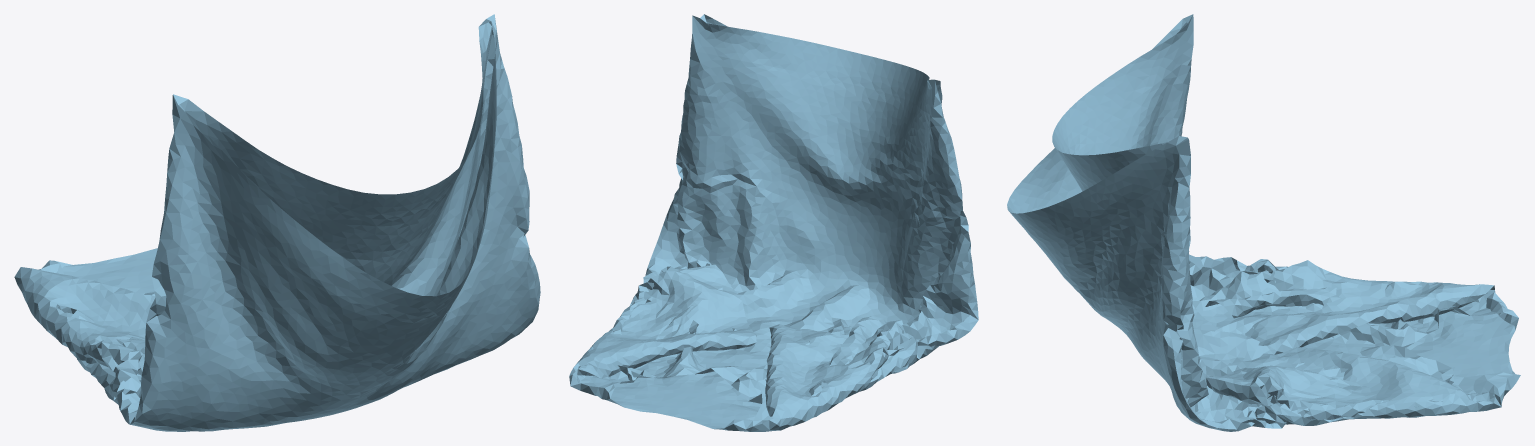
Rendered from frame_10.glb.
3 renders of one model, left to right at view 1: azimuth 30°, elevation 25°; view 2: azimuth 150°, elevation 25°; view 3: azimuth 270°, elevation 25°, orthographic. The views are drawn at different scales.
Parts seen in each view (by area): view 1: frame_10.obj; view 2: frame_10.obj; view 3: frame_10.obj.
Part boxes in pixels (x1,y1,x2,y2): frame_10.obj: (14, 14, 540, 431); frame_10.obj: (569, 14, 978, 431); frame_10.obj: (1007, 14, 1520, 431).
Bounding box in the file's own units: 1.1 × 0.8906 × 1.44.
